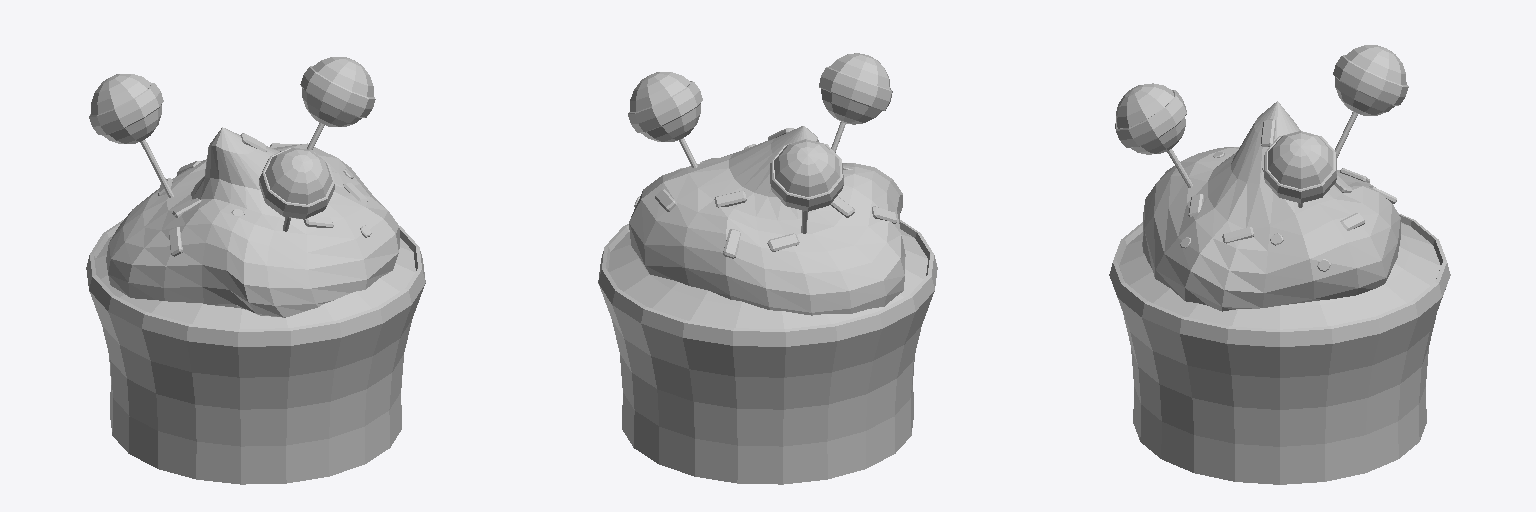
Rendered from cupcake.obj.
3 renders of one model, left to right at view 1: azimuth 30°, elevation 25°; view 2: azimuth 150°, elevation 25°; view 3: azimuth 270°, elevation 25°, orthographic.
Visible parts, largest first — view 1: CupCake_CupCake; view 2: CupCake_CupCake; view 3: CupCake_CupCake.
Boxes of the visible parts, x1,y1,x2,y2 form: CupCake_CupCake: [86, 57, 425, 484]; CupCake_CupCake: [598, 53, 937, 484]; CupCake_CupCake: [1109, 45, 1450, 484].
Bounding box in the file's own units: 6.98 × 7.53 × 6.98.